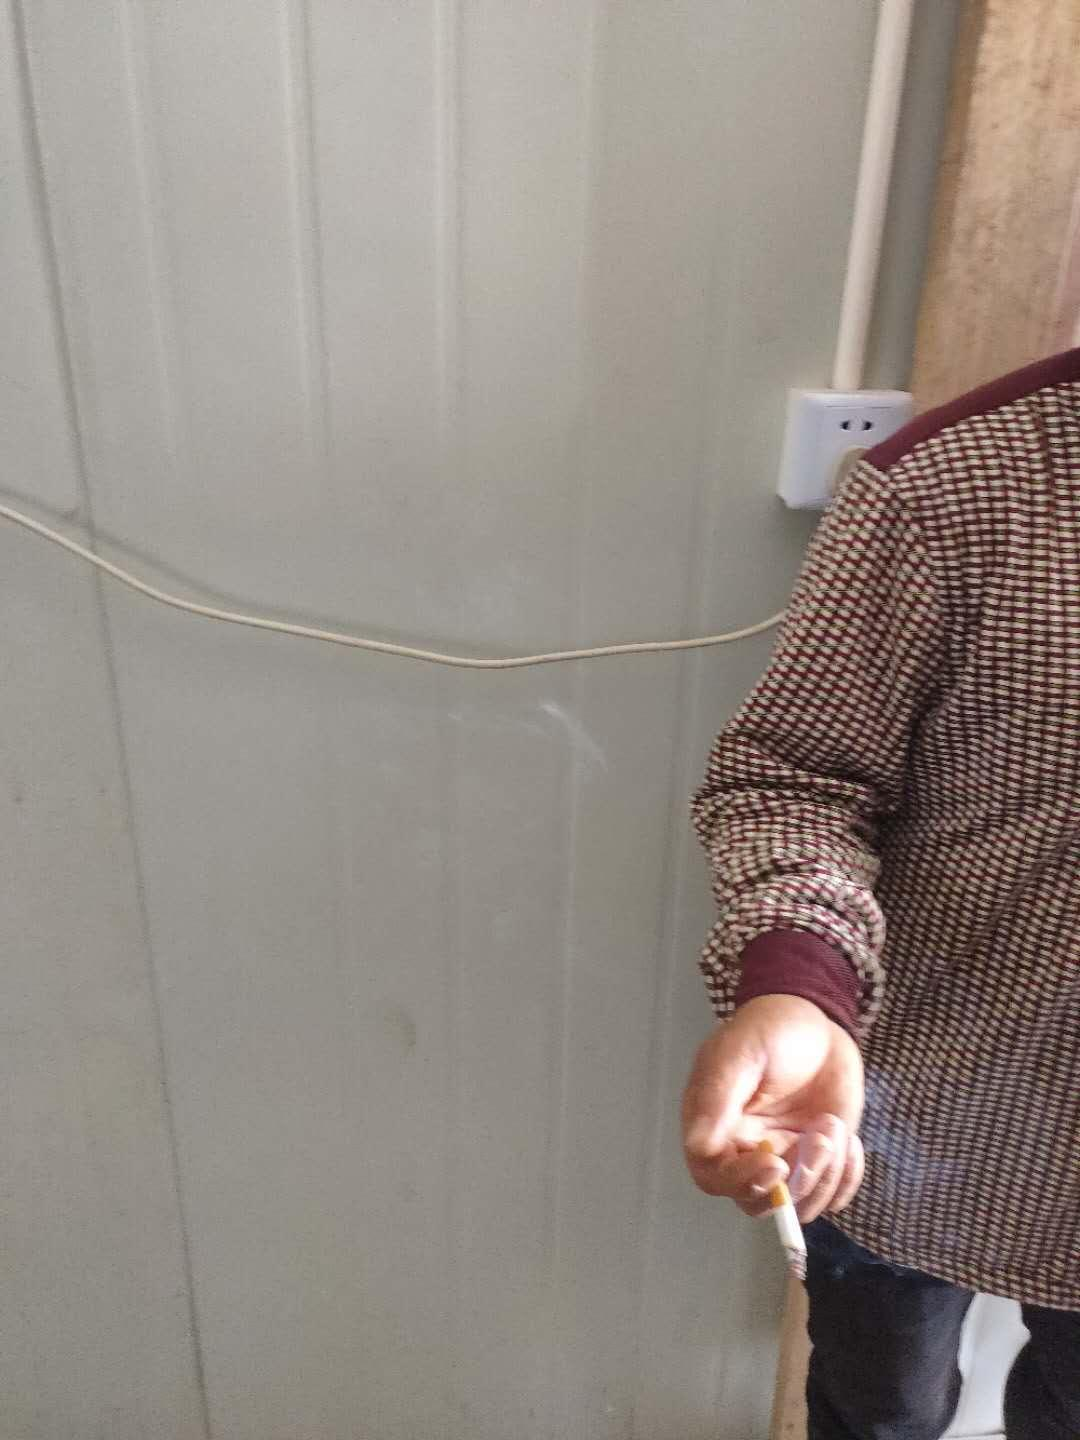Cigarette: (768, 1149, 813, 1280)
